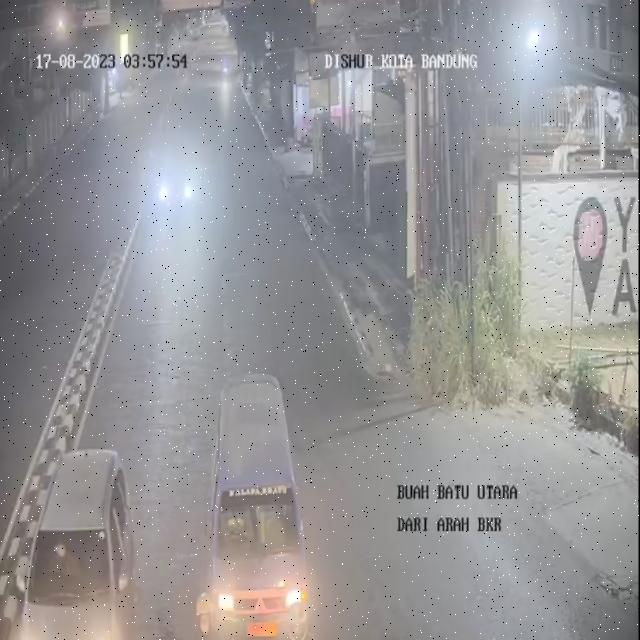cars: (208, 357, 314, 640), (20, 442, 137, 640)
